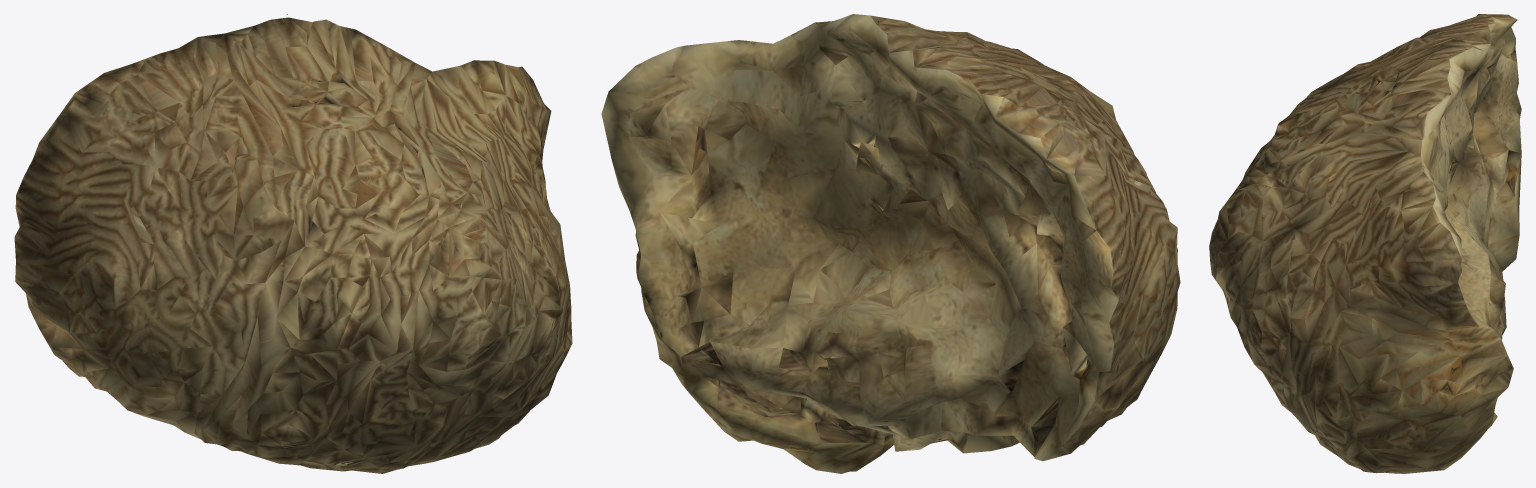
File: scan_coral_brain_a.glb
3 renders of one model, left to right at view 1: azimuth 30°, elevation 25°; view 2: azimuth 150°, elevation 25°; view 3: azimuth 270°, elevation 25°, orthographic. The views are drawn at different scales.
Visible parts, largest first — view 1: scan_coral_brain_a; view 2: scan_coral_brain_a; view 3: scan_coral_brain_a.
Boxes of the visible parts, box(x1,y1,x2,y2) form: scan_coral_brain_a: box(14, 14, 572, 473); scan_coral_brain_a: box(601, 14, 1180, 473); scan_coral_brain_a: box(1209, 14, 1521, 473).
Size of the model in its own units: 0.741 by 0.6356 by 0.4672.
1 material, 1 textured.
